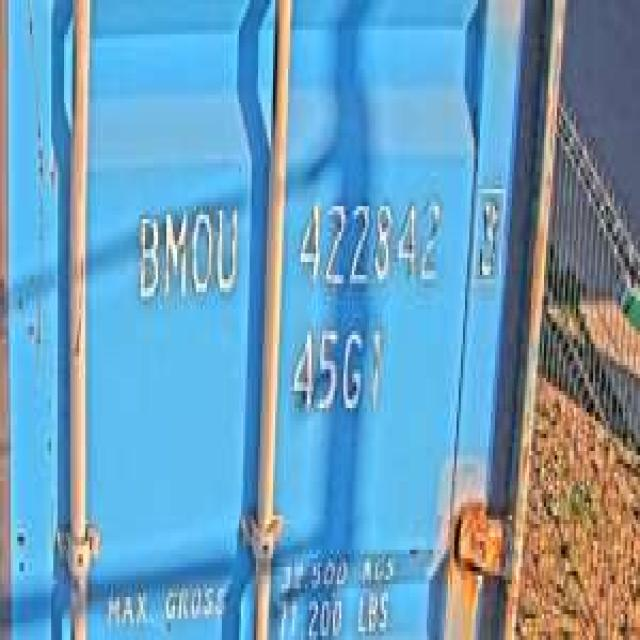dv: (464, 167, 509, 293)
owner: (132, 188, 247, 310)
serial: (291, 178, 448, 301)
size: (286, 313, 396, 421)
